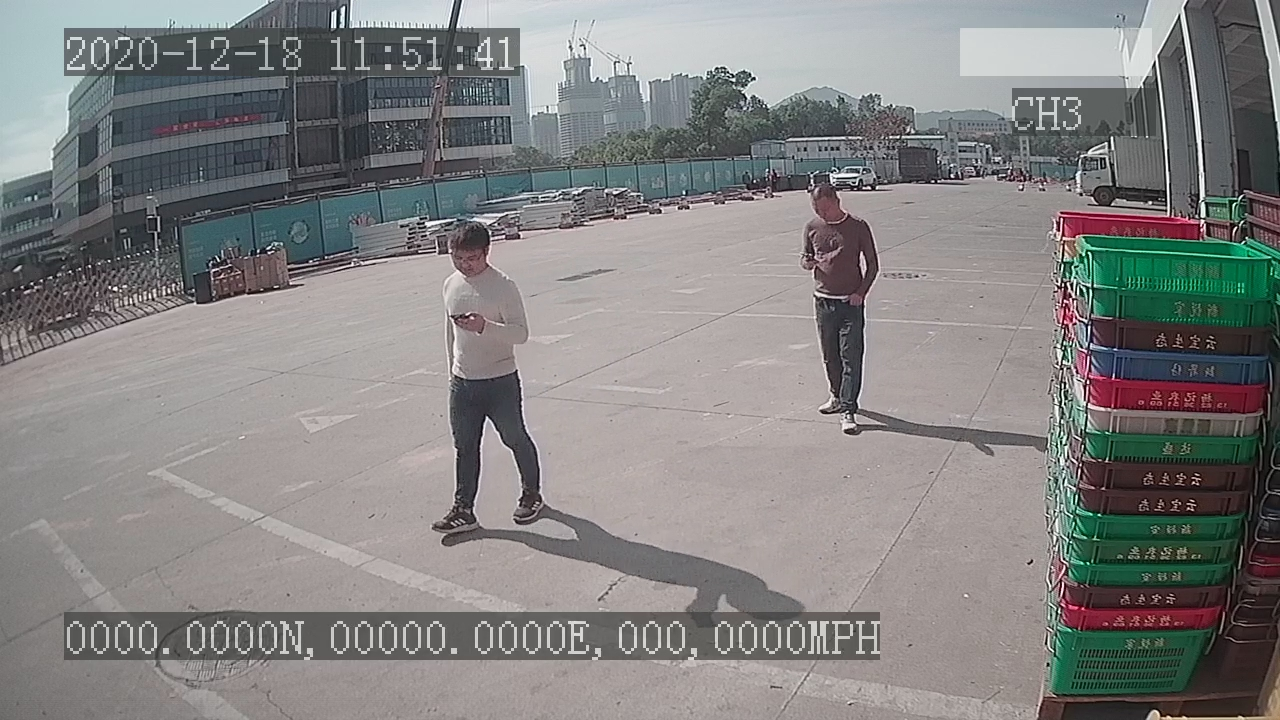person: (429, 213, 551, 536), (793, 176, 886, 447)
